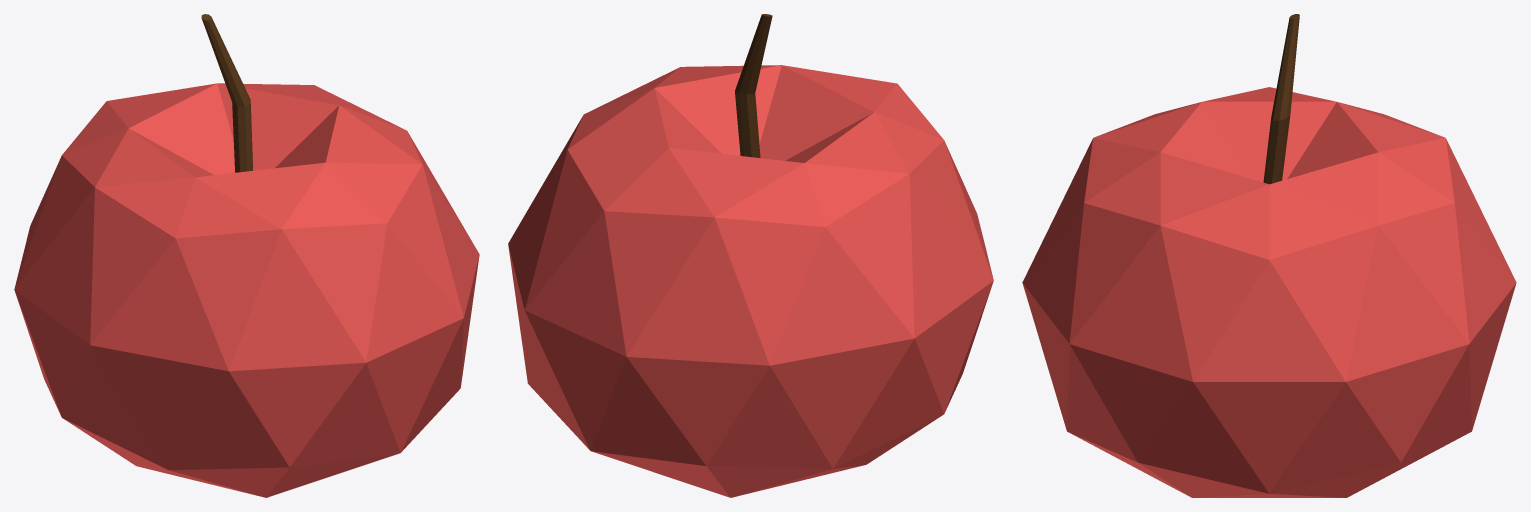
Rendered from Apple.fbx.
3 views of the same model, side by side, from view 1: azimuth 30°, elevation 25°; view 2: azimuth 150°, elevation 25°; view 3: azimuth 270°, elevation 25° (orthographic). The views are drawn at different scales.
Parts seen in each view (by area): view 1: Circle.004; view 2: Circle.004; view 3: Circle.004.
Part boxes in pixels (x1,y1,x2,y2): Circle.004: [14, 14, 479, 497]; Circle.004: [508, 14, 993, 497]; Circle.004: [1022, 14, 1516, 497].
Bounding box in the file's own units: 28.69 × 29.9 × 31.33.
